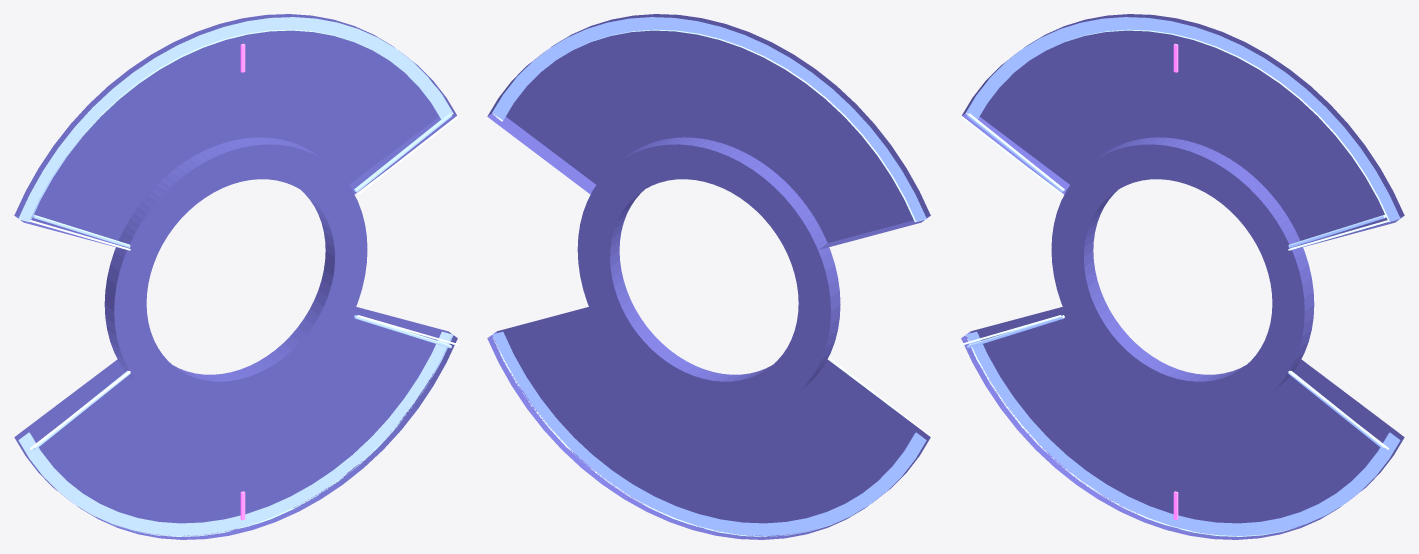
Rendered from prism-panel-fun9-high.glb.
3 views of the same model, side by side, from view 1: azimuth 30°, elevation 25°; view 2: azimuth 150°, elevation 25°; view 3: azimuth 330°, elevation 25° (orthographic).
Parts seen in each view (by area): view 1: RENDER_PANEL_SHELL, RENDER_PANEL_FRAME, RENDER_PANEL_SIGNAL; view 2: RENDER_PANEL_SHELL, RENDER_PANEL_FRAME; view 3: RENDER_PANEL_SHELL, RENDER_PANEL_FRAME, RENDER_PANEL_SIGNAL.
Boxes of the visible parts, x1,y1,x2,y2 form: RENDER_PANEL_SHELL: (14,14,457,539); RENDER_PANEL_FRAME: (18,17,453,536); RENDER_PANEL_SIGNAL: (29,115,458,449); RENDER_PANEL_SHELL: (487,14,930,539); RENDER_PANEL_FRAME: (492,17,926,536); RENDER_PANEL_SHELL: (961,14,1404,539); RENDER_PANEL_FRAME: (965,17,1400,536); RENDER_PANEL_SIGNAL: (960,115,1389,449).
Size of what is drawn, in the model's own units: 36.85 by 40.95 by 1.95.
